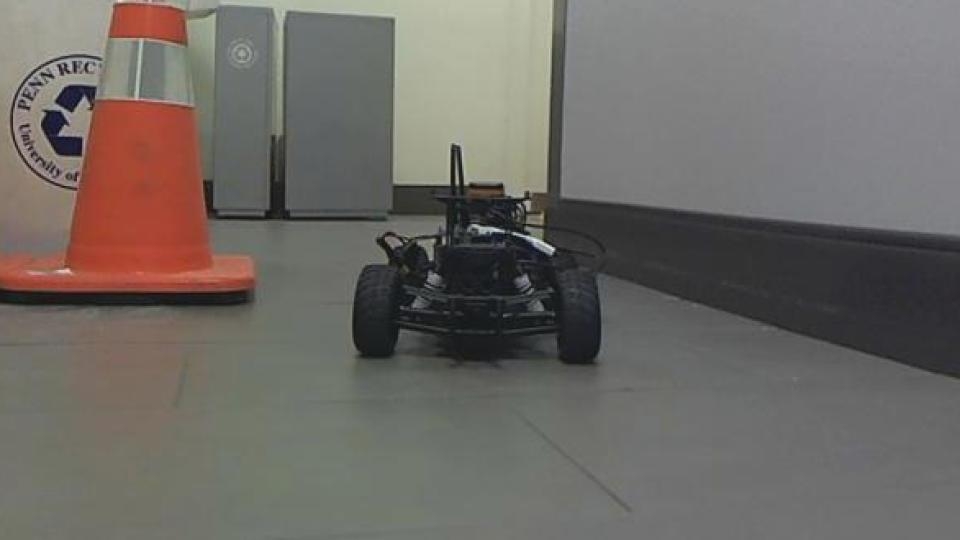car: (349, 142, 611, 367)
